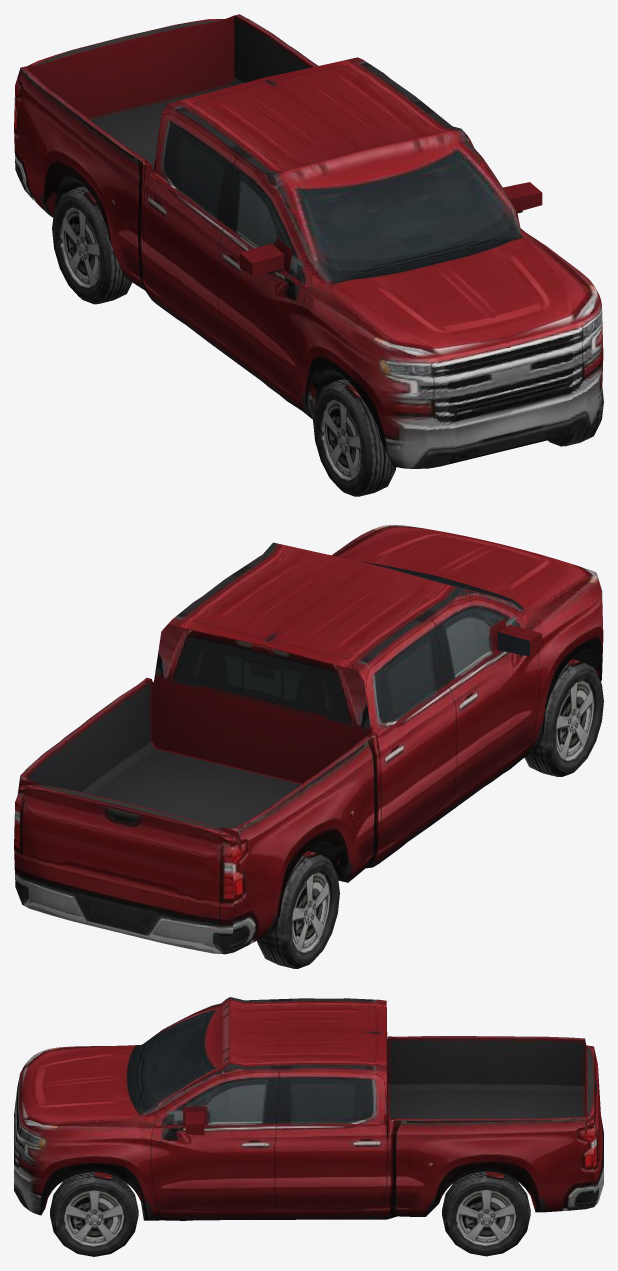
Rendered from truck.glb.
The picture shows the model from 3 angles, top to bottom: view 1: azimuth 30°, elevation 25°; view 2: azimuth 150°, elevation 25°; view 3: azimuth 270°, elevation 25°; orthographic projection. The views are drawn at different scales.
Visible parts, largest first — view 1: body, wheel-front-right, wheel-back-right, wheel-front-left; view 2: body, wheel-back-right, wheel-front-right; view 3: body, wheel-front-left, wheel-back-left.
Part boxes in pixels (bbox=[...]): body: bbox=[14, 14, 603, 468]; wheel-front-right: bbox=[313, 378, 396, 496]; wheel-back-right: bbox=[52, 186, 132, 304]; wheel-front-left: bbox=[548, 387, 603, 446]; body: bbox=[14, 525, 603, 954]; wheel-back-right: bbox=[257, 851, 339, 968]; wheel-front-right: bbox=[524, 659, 603, 776]; body: bbox=[14, 997, 603, 1220]; wheel-front-left: bbox=[50, 1172, 138, 1256]; wheel-back-left: bbox=[442, 1171, 530, 1256].
Size of the model in its own units: 2.48 by 2.04 by 5.86.
Materials: 1 (1 with a texture image).
